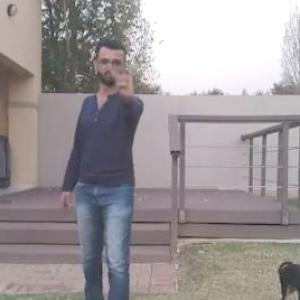takeoff-hand: (113, 54, 146, 100)
